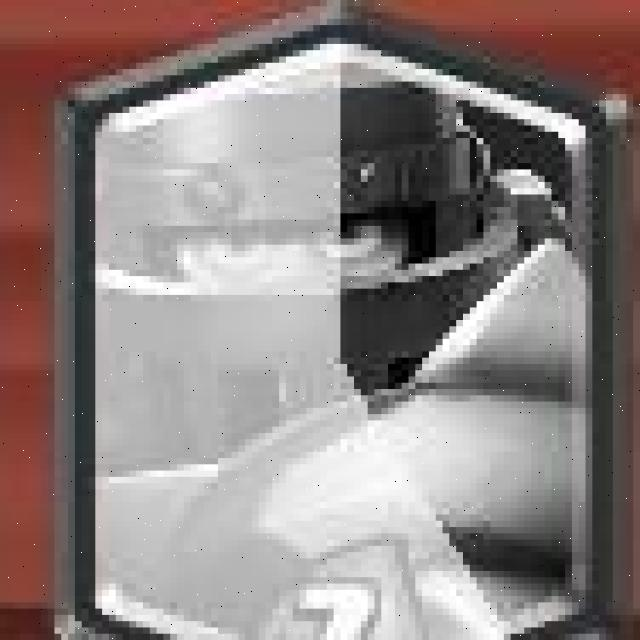Mega_Knight: (63, 8, 619, 640)
